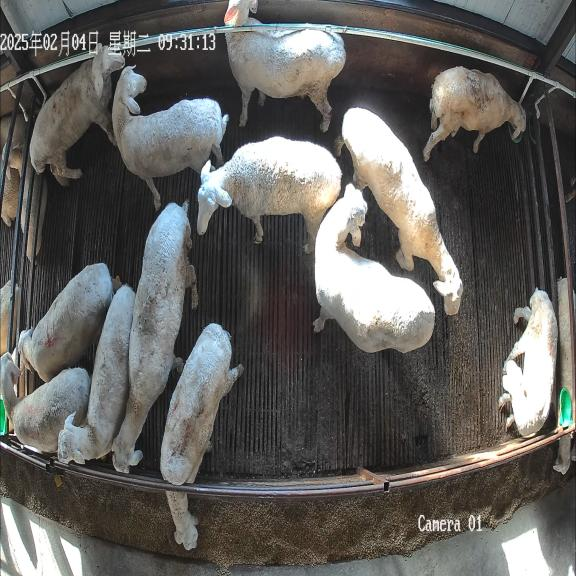drinking: (423, 66, 526, 161)
eating: (160, 323, 243, 550)
stand: (342, 108, 463, 315), (112, 202, 197, 472), (313, 183, 435, 353), (197, 136, 342, 253), (112, 67, 228, 211), (224, 0, 346, 132), (58, 284, 135, 464), (30, 44, 125, 185), (15, 263, 122, 382), (0, 354, 90, 452), (498, 288, 558, 435)
